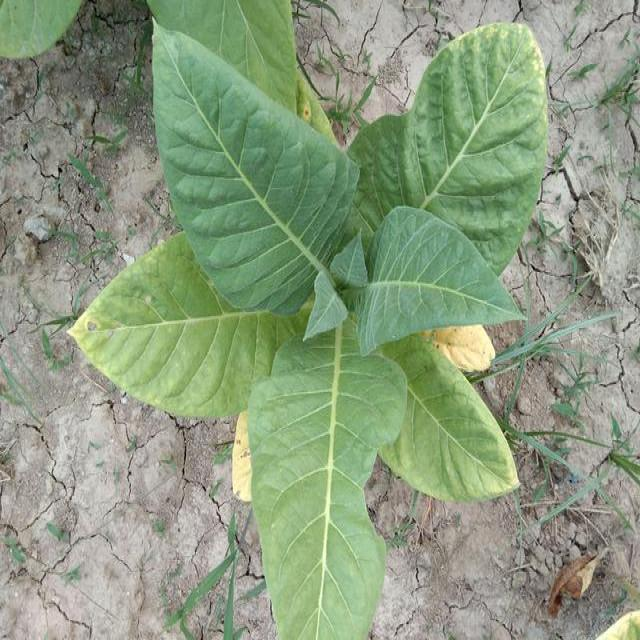crop: (79, 24, 554, 637)
